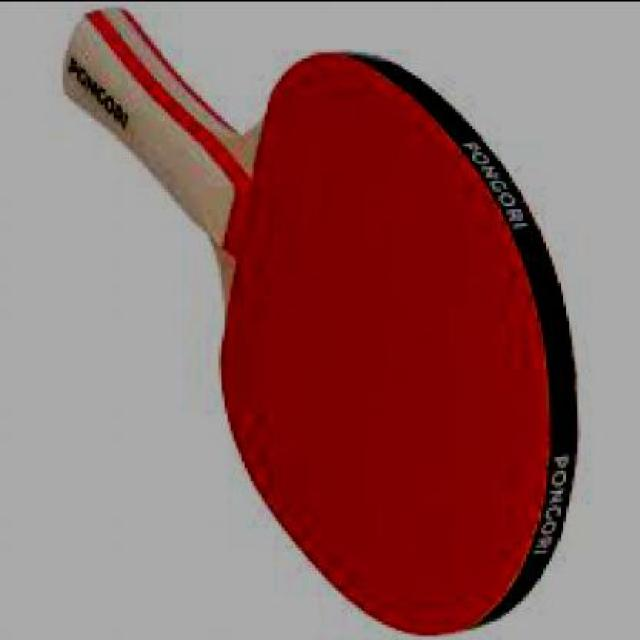table_tennis_racket: (208, 42, 580, 640)
